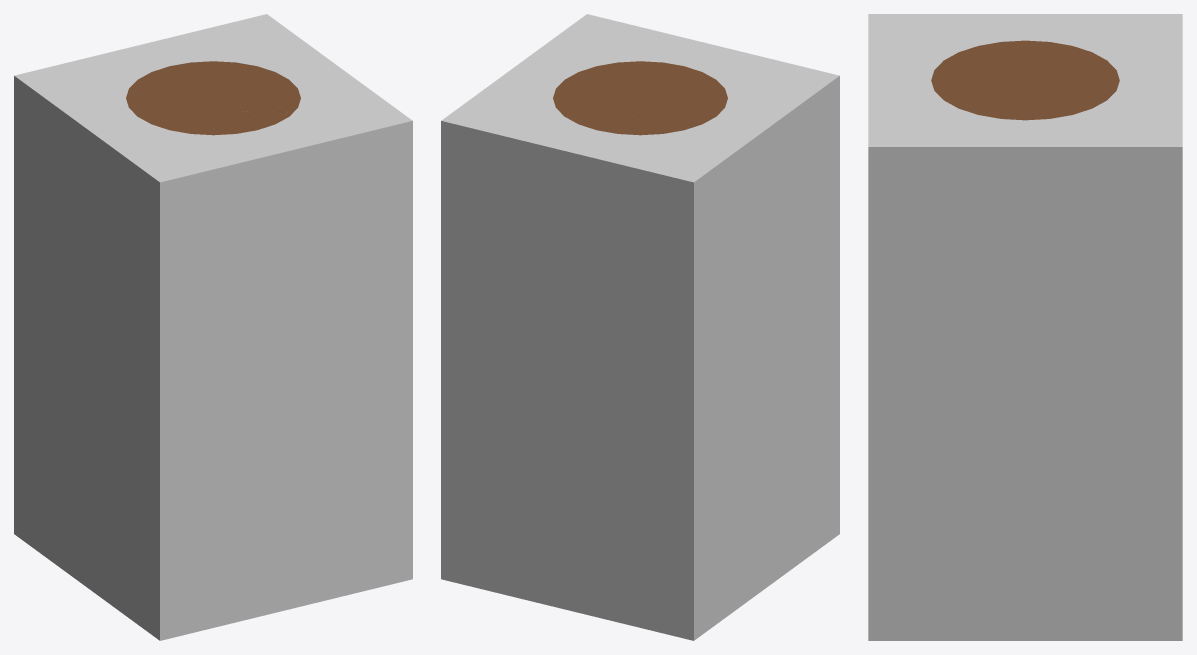
File: pendant-light_boutique.glb
3 views of the same model, side by side, from view 1: azimuth 30°, elevation 25°; view 2: azimuth 150°, elevation 25°; view 3: azimuth 270°, elevation 25° (orthographic). The views are drawn at different scales.
Visible parts, largest first — view 1: COL_pendant-light, MESH_CeilingCanopy; view 2: COL_pendant-light, MESH_CeilingCanopy; view 3: COL_pendant-light, MESH_CeilingCanopy.
Boxes of the visible parts, x1,y1,x2,y2 form: COL_pendant-light: [14, 14, 412, 640]; MESH_CeilingCanopy: [126, 61, 300, 135]; COL_pendant-light: [441, 14, 839, 640]; MESH_CeilingCanopy: [553, 61, 727, 135]; COL_pendant-light: [868, 14, 1182, 640]; MESH_CeilingCanopy: [931, 40, 1119, 120].
Bounding box in the file's own units: 0.45 × 0.78 × 0.45.
